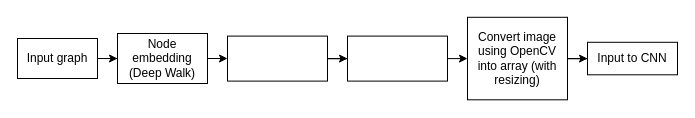
Image size: 695x118. Some labels were removed from this diagram. Here are the shapes that lost their labels. From the top down, the centre of each, then its label:
[277,58]: PCA (2-d space)
[397,58]: Plot result using matplotlib
